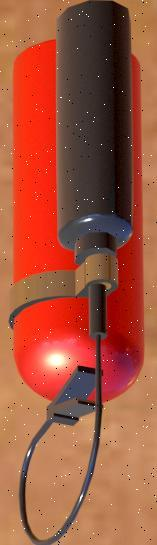Fire Extinguisher: (9, 0, 156, 545)
